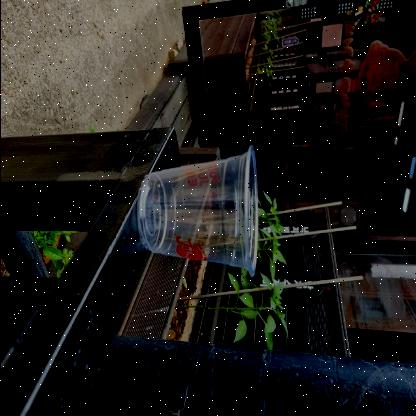Others: (133, 140, 263, 286)
